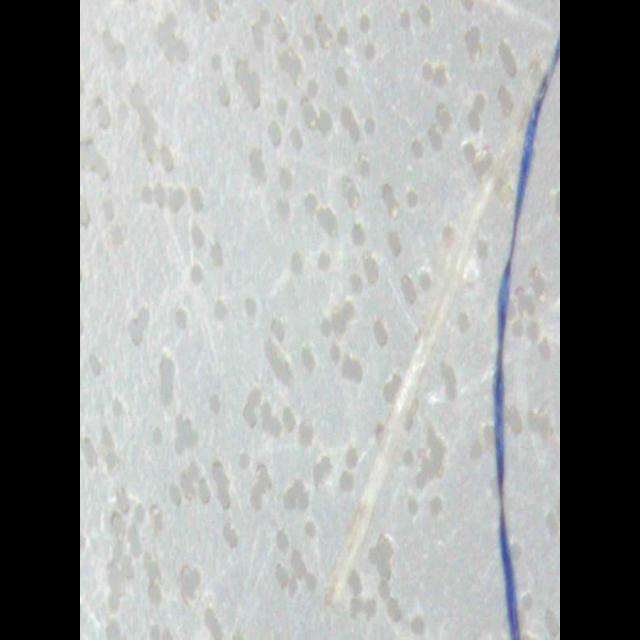Fibre: (490, 32, 560, 640)
